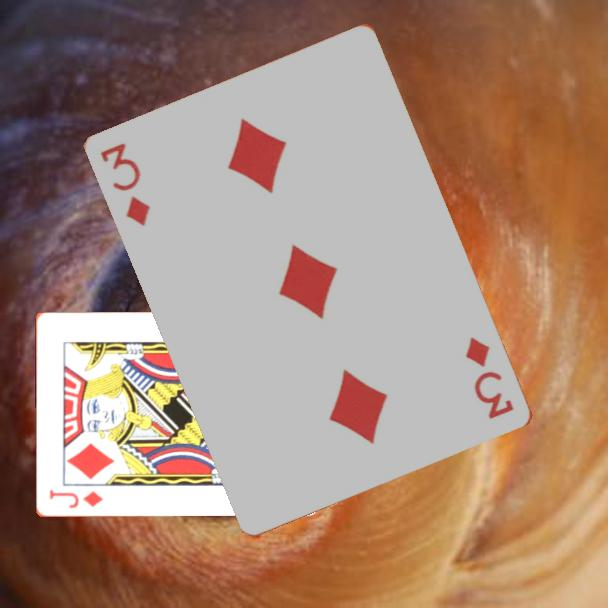d03: (97, 140, 154, 229), (462, 333, 518, 423)
d11: (46, 487, 106, 512)
